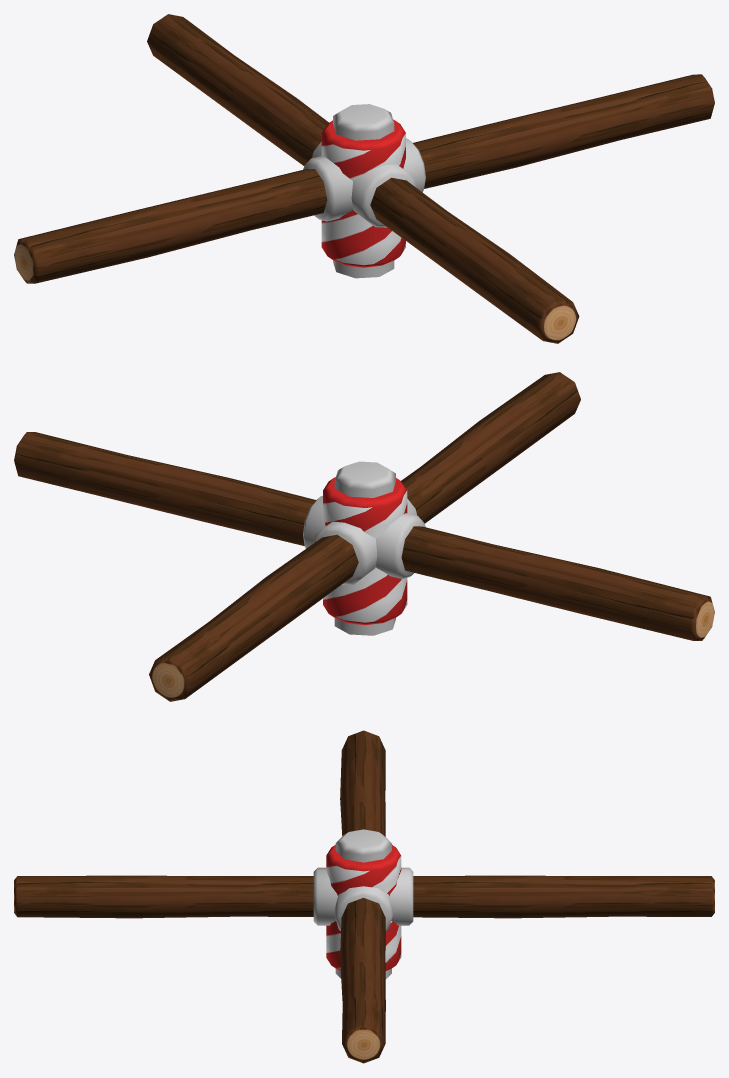
The model's file is obstacle_12_001.fbx.
The picture shows the model from 3 angles, top to bottom: view 1: azimuth 30°, elevation 25°; view 2: azimuth 150°, elevation 25°; view 3: azimuth 270°, elevation 25°; orthographic projection. The views are drawn at different scales.
Parts seen in each view (by area): view 1: obstacle_12_001; view 2: obstacle_12_001; view 3: obstacle_12_001.
Part boxes in pixels (<box>): obstacle_12_001: <box>14,14,714,343</box>; obstacle_12_001: <box>14,372,714,701</box>; obstacle_12_001: <box>14,730,714,1063</box>.
Size of the model in its own units: 1373 by 1373 by 292.
